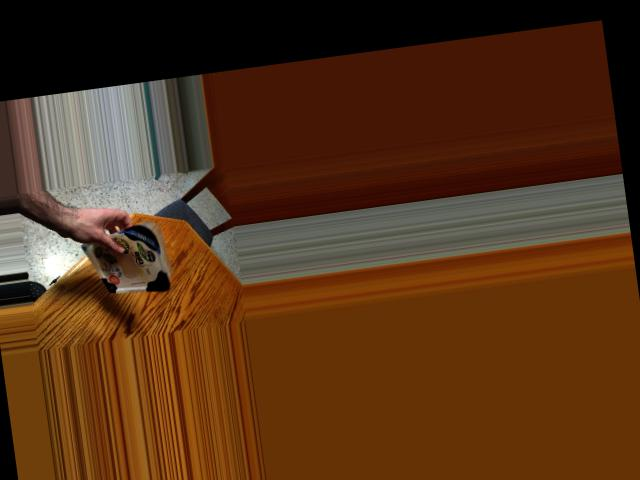cheese: (95, 217, 177, 294)
